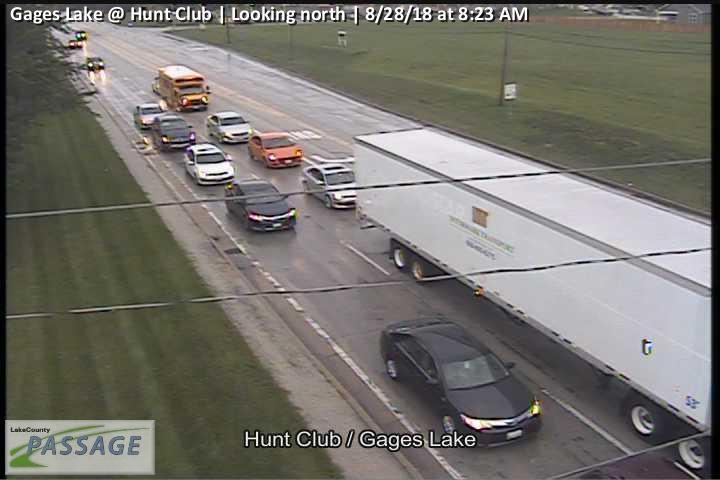Bus: (158, 64, 210, 112)
SUV: (225, 179, 296, 232), (182, 143, 235, 186), (151, 113, 196, 153)
Sedan: (380, 314, 544, 447), (301, 161, 361, 210), (248, 131, 302, 169), (207, 111, 252, 143), (134, 104, 161, 128), (87, 57, 104, 71), (68, 39, 83, 49), (75, 32, 88, 41)
Truck: (352, 124, 717, 473)
